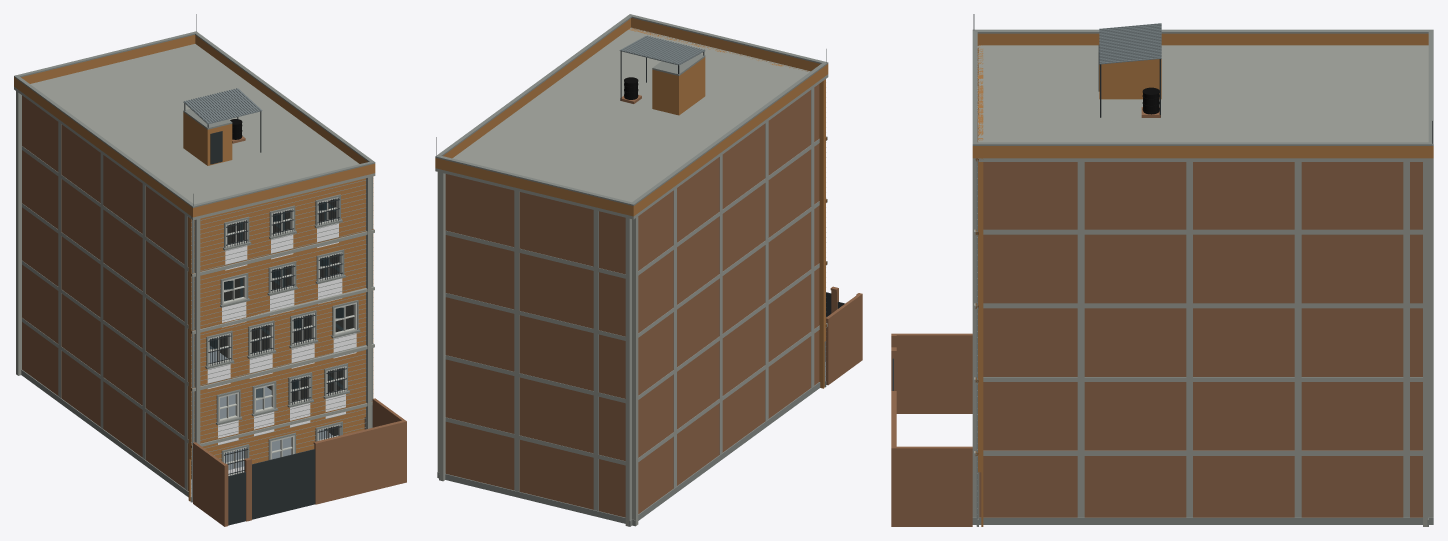
File: house_seed3019_commercial_podium.glb
3 renders of one model, left to right at view 1: azimuth 30°, elevation 25°; view 2: azimuth 150°, elevation 25°; view 3: azimuth 270°, elevation 25°, orthographic. The views are drawn at different scales.
Parts seen in each view (by area): view 1: wall_7, roof_slab_11, wall_0, wall_11, cladding_joint_2, parapet_0, decal_14, window_panel_4, garage_door_5, parapet_cap_2, floor_slab_11, security_bar_5 (+16 smaller); view 2: wall_7, roof_slab_11, wall_11, parapet_0, parapet_cap_2, plinth_2, wall_0, rooftop_room_0, corrugation_8, canopy_sheet_8; view 3: wall_7, roof_slab_11, wall_11, parapet_0, parapet_cap_2, plinth_2, wall_0, corrugation_8, rooftop_room_0, canopy_sheet_8, corner_pilaster_2.
Part boxes in pixels (x1,y1,x2,y2): wall_7: (22, 95, 406, 526); roof_slab_11: (14, 44, 375, 220); wall_0: (188, 176, 373, 501); wall_11: (16, 45, 371, 490); cladding_joint_2: (191, 178, 373, 493); parapet_0: (14, 35, 375, 217); decal_14: (207, 223, 356, 444); window_panel_4: (209, 199, 353, 469); garage_door_5: (252, 449, 315, 519); parapet_cap_2: (14, 31, 375, 207); floor_slab_11: (191, 229, 374, 448); security_bar_5: (210, 197, 344, 475); wall_7: (445, 84, 862, 517); roof_slab_11: (435, 27, 828, 219); wall_11: (437, 30, 819, 526); parapet_0: (435, 18, 828, 216); parapet_cap_2: (435, 14, 828, 205); plinth_2: (437, 381, 826, 526); wall_0: (628, 28, 825, 388); rooftop_room_0: (652, 57, 705, 115); corrugation_8: (621, 35, 704, 64); canopy_sheet_8: (619, 36, 705, 65); wall_7: (891, 162, 1422, 526); roof_slab_11: (972, 45, 1433, 161); wall_11: (972, 45, 1433, 526); parapet_0: (972, 33, 1433, 158); parapet_cap_2: (972, 29, 1433, 145); plinth_2: (972, 517, 1433, 526); wall_0: (978, 45, 983, 526); corrugation_8: (1099, 23, 1161, 62); rooftop_room_0: (1099, 59, 1161, 99); canopy_sheet_8: (1099, 24, 1161, 64); corner_pilaster_2: (976, 162, 978, 526).
Bounding box in the file's own units: 10 × 17.48 × 20.
